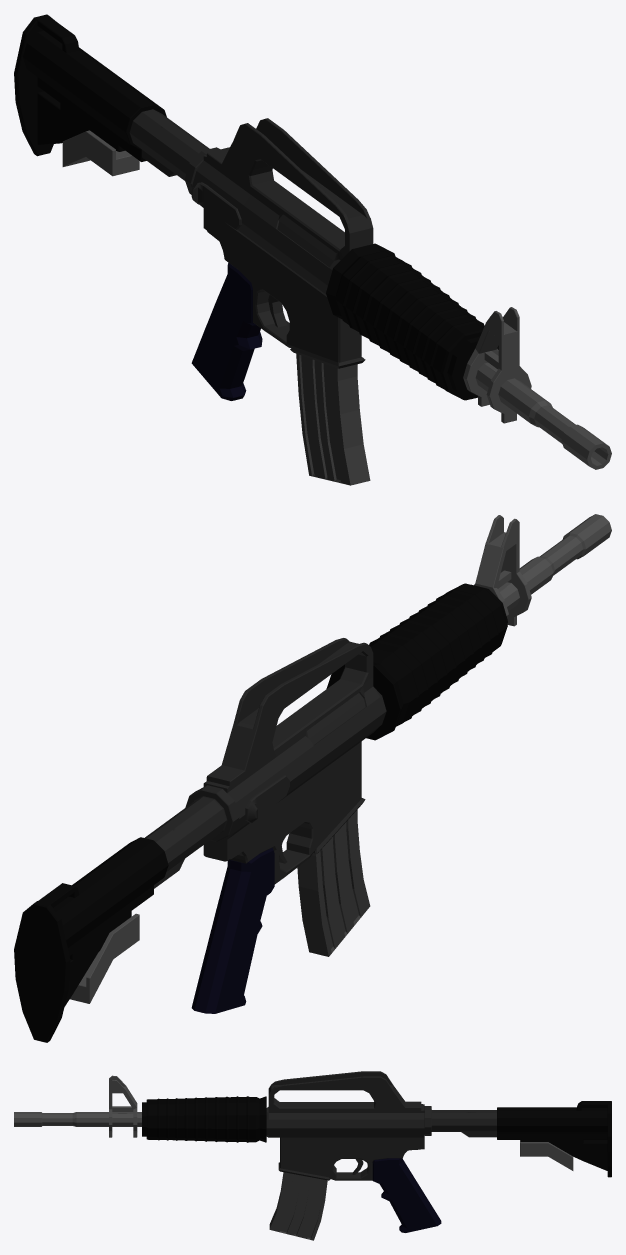
File: M4A1_ver1.0.fbx
The picture shows the model from 3 angles, top to bottom: view 1: azimuth 30°, elevation 25°; view 2: azimuth 150°, elevation 25°; view 3: azimuth 270°, elevation 25°; orthographic projection. The views are drawn at different scales.
Parts seen in each view (by area): view 1: haikyou1; view 2: haikyou1; view 3: haikyou1.
Boxes of the visible parts, x1=… form: haikyou1: x1=14, y1=14, x2=611, y2=485; haikyou1: x1=14, y1=514, x2=611, y2=1042; haikyou1: x1=14, y1=1071, x2=611, y2=1240.
Size of the model in its own units: 6.56 by 25.25 by 83.43.
